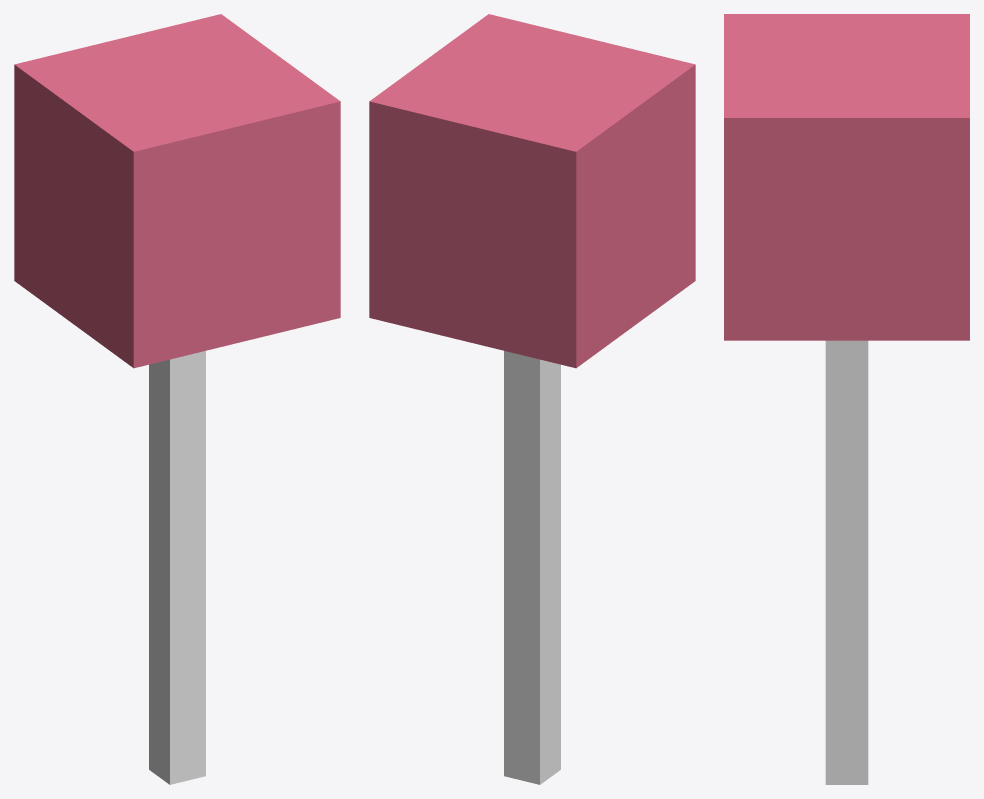
Rendered from CandylandLollypop_01.fbx.
The picture shows the model from 3 angles, left to right: view 1: azimuth 30°, elevation 25°; view 2: azimuth 150°, elevation 25°; view 3: azimuth 270°, elevation 25°; orthographic projection. The views are drawn at different scales.
Visible parts, largest first — view 1: CandylandLollypop_01; view 2: CandylandLollypop_01; view 3: CandylandLollypop_01.
Boxes of the visible parts, <box> form: CandylandLollypop_01: <box>14,14,340,784</box>; CandylandLollypop_01: <box>369,14,695,784</box>; CandylandLollypop_01: <box>724,14,969,784</box>.
Size of the model in its own units: 0.2013 by 0.6416 by 0.2013.
